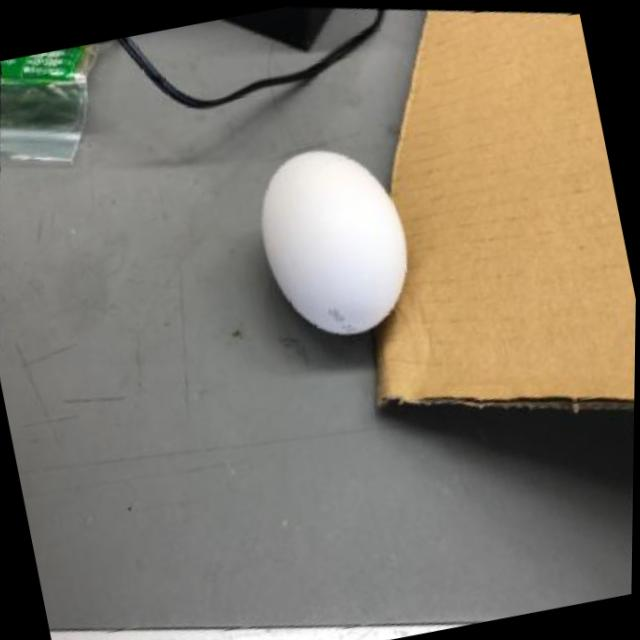egg: (239, 120, 435, 358)
